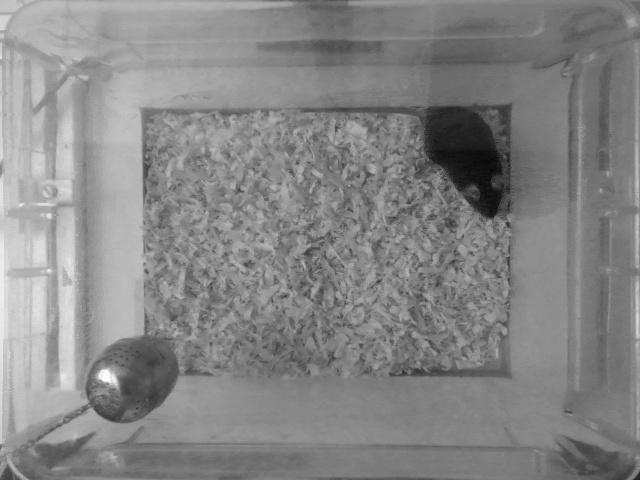mice: (300, 101, 507, 221)
